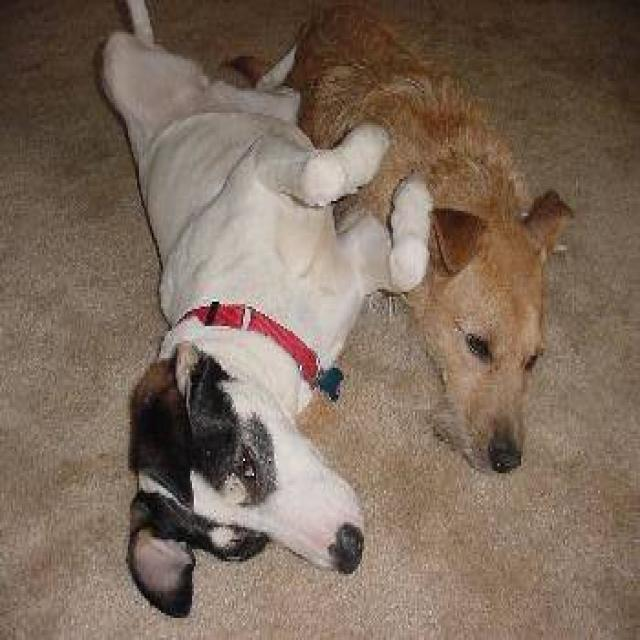dog: (97, 0, 433, 618)
